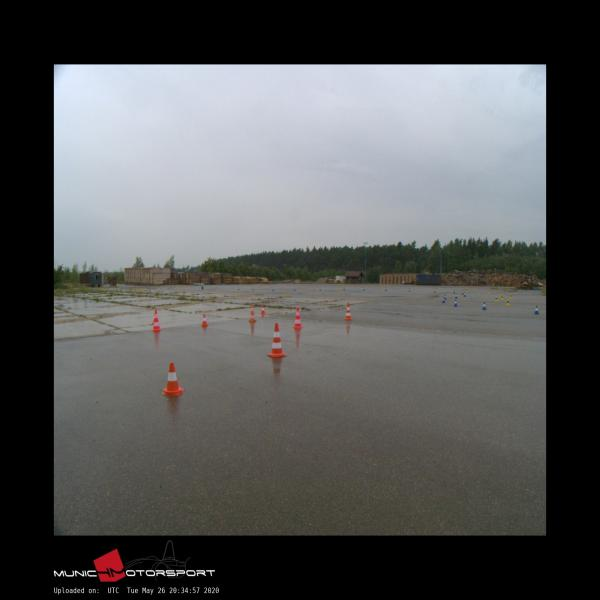blue_cone: (534, 306, 539, 314), (482, 302, 486, 310), (454, 300, 458, 306), (442, 297, 445, 303), (444, 294, 447, 300), (463, 292, 466, 297), (455, 294, 458, 298), (461, 290, 464, 294), (453, 290, 456, 294)
large_orange_cone: (267, 322, 286, 356), (292, 307, 302, 327), (152, 310, 160, 330), (344, 302, 352, 320), (249, 304, 256, 321)
orange_cone: (162, 362, 183, 394), (200, 314, 208, 326), (260, 305, 266, 314)
yellow_cone: (506, 298, 510, 306), (494, 296, 498, 301), (510, 294, 513, 298), (499, 291, 502, 295), (501, 295, 503, 299), (488, 289, 490, 293), (465, 288, 467, 292)
